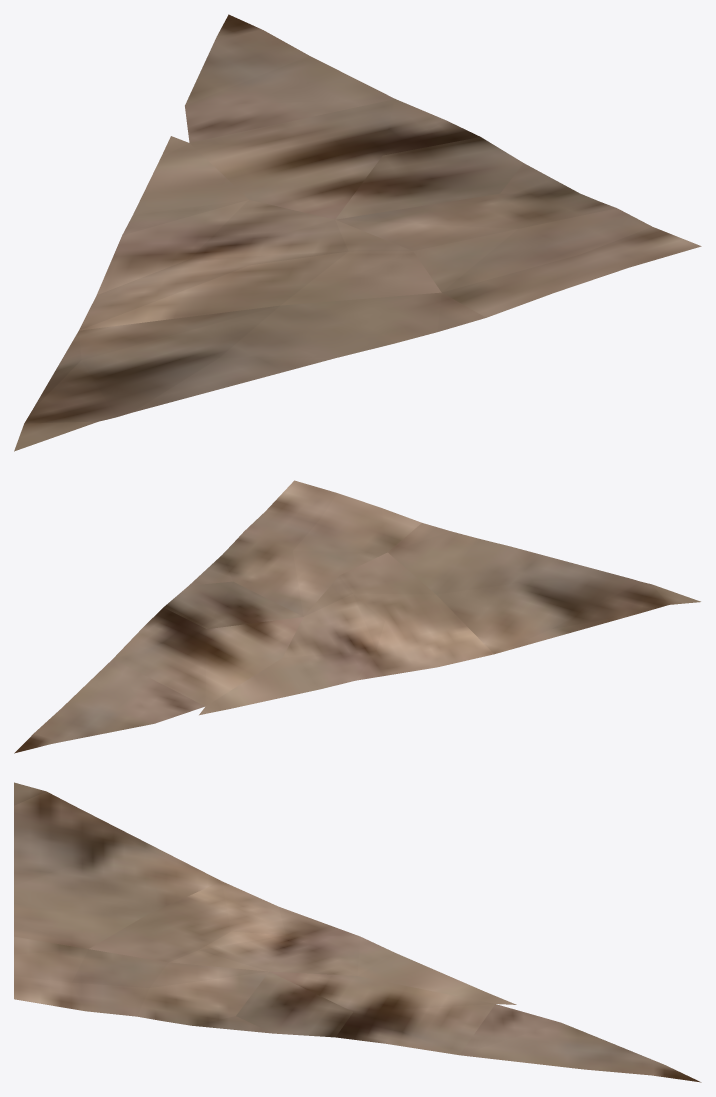
3 renders of one model, top to bottom at view 1: azimuth 30°, elevation 25°; view 2: azimuth 150°, elevation 25°; view 3: azimuth 270°, elevation 25°, orthographic. The views are drawn at different scales.
Bounding box in the file's own units: 3.48 × 0.5528 × 4.14.
1 material, 1 textured.
